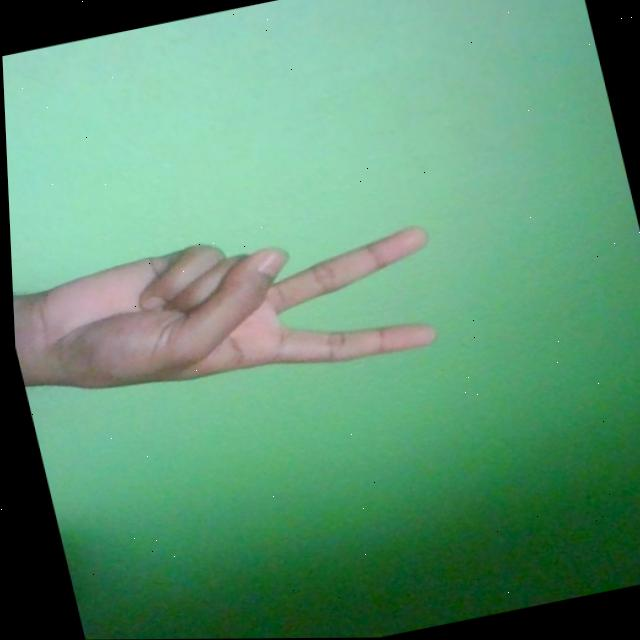Peace: (17, 200, 451, 422)
